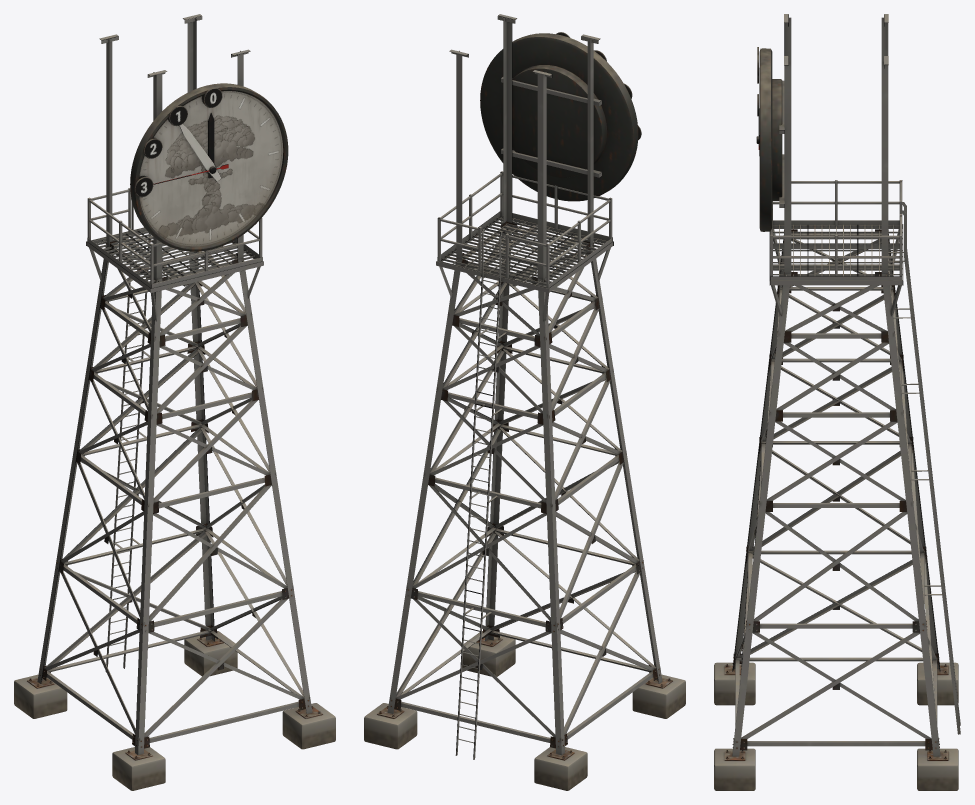
File: clock_tower.glb
3 views of the same model, side by side, from view 1: azimuth 30°, elevation 25°; view 2: azimuth 150°, elevation 25°; view 3: azimuth 270°, elevation 25° (orthographic). The views are drawn at different scales.
Visible parts, largest first — view 1: clock_tower; view 2: clock_tower; view 3: clock_tower.
Part boxes in pixels (<box>): clock_tower: <box>14,14,335,790</box>; clock_tower: <box>364,14,685,790</box>; clock_tower: <box>714,14,960,790</box>.
Size of the model in its own units: 5.41 by 17.11 by 5.46.
Materials: 3 (3 with a texture image).
